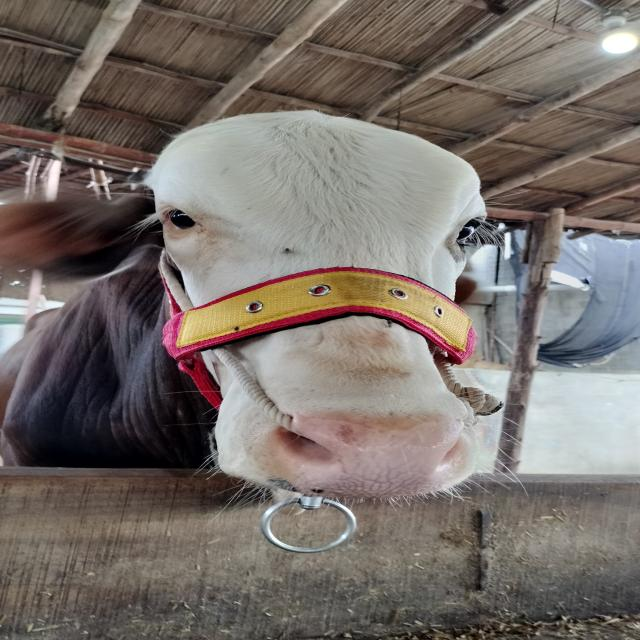muzzles: (258, 406, 490, 506)
